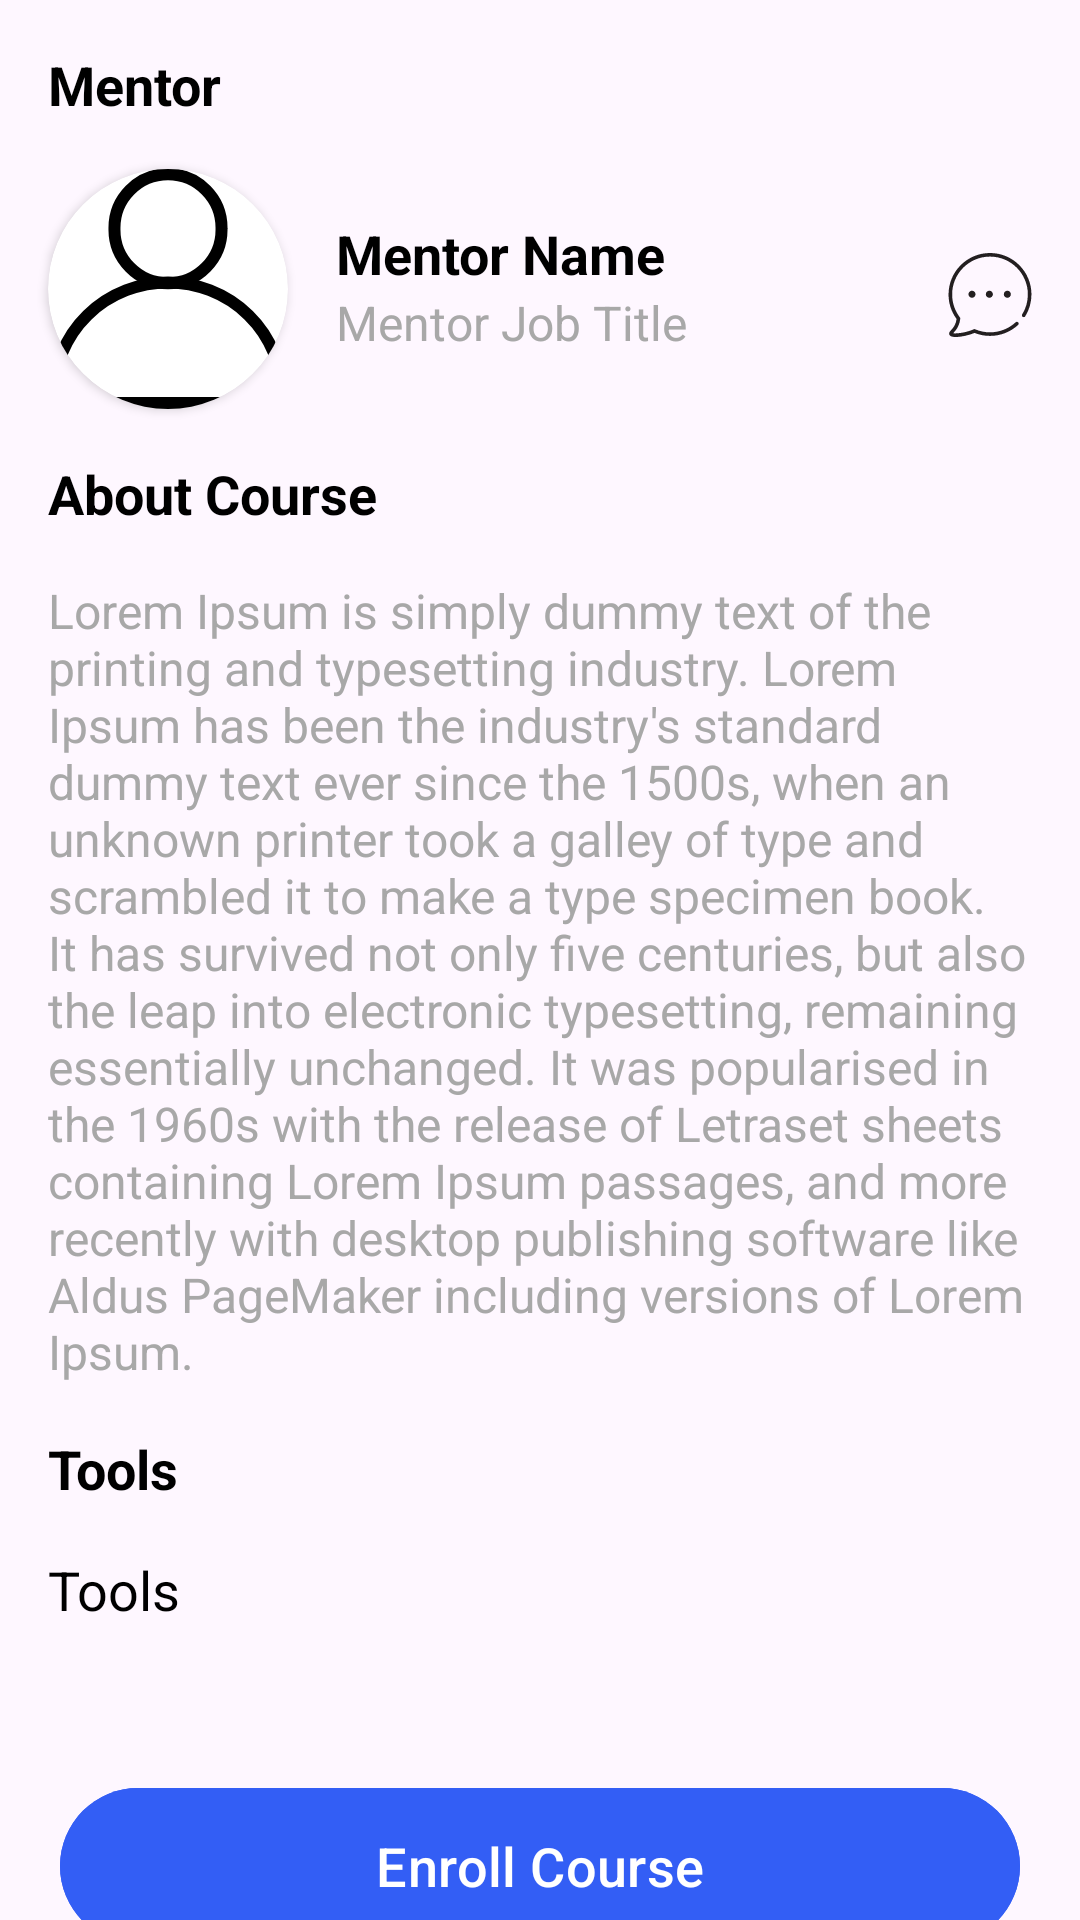

Point at icon controls on the screen. Image size 1080w x 1920h, points as point (x, y).
chat: point (990, 295)
head: point (168, 289)
